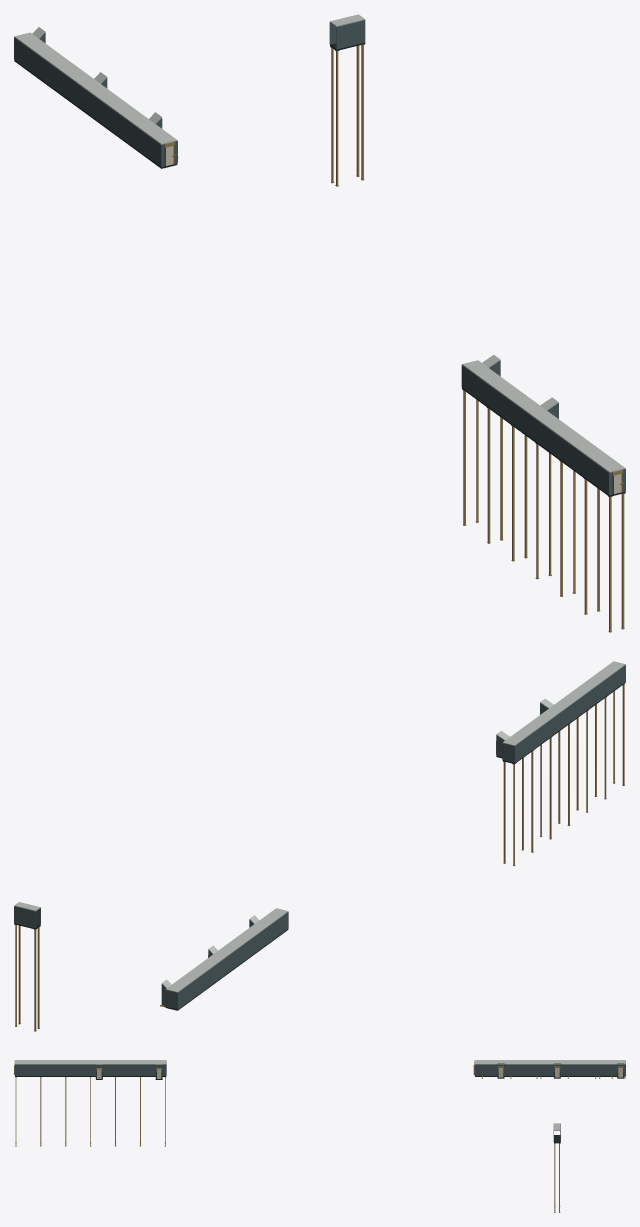
Rendered from D04_STARBOARD_FORWARD_REMAINING_COURTS_r001.glb.
3 views of the same model, one above another, from view 1: azimuth 30°, elevation 25°; view 2: azimuth 150°, elevation 25°; view 3: azimuth 270°, elevation 25° (orthographic). The views are drawn at different scales.
Visible parts, largest first — view 1: SFR_Wall2_3, SFR_Wall0_3, SFR_Roof1, SFR_Roof0; view 2: SFR_Wall0_3, SFR_Wall2_3, SFR_Roof1, SFR_Roof0; view 3: SFR_Wall2_5, SFR_Roof1, SFR_Roof0, SFR_Wall0_13, SFR_Wall2_9, SFR_Wall0_9, SFR_Wall0_5.
Boxes of the visible parts, <box> form: SFR_Wall2_3: <box>461,365,609,495</box>; SFR_Wall0_3: <box>14,37,161,166</box>; SFR_Roof1: <box>462,360,625,472</box>; SFR_Roof0: <box>14,32,177,144</box>; SFR_Wall0_3: <box>177,912,288,1009</box>; SFR_Wall2_3: <box>514,665,625,762</box>; SFR_Roof1: <box>502,661,625,745</box>; SFR_Roof0: <box>165,908,288,992</box>; SFR_Wall2_5: <box>15,1064,95,1075</box>; SFR_Roof1: <box>15,1060,166,1064</box>; SFR_Roof0: <box>475,1060,625,1064</box>; SFR_Wall0_13: <box>561,1064,616,1075</box>; SFR_Wall2_9: <box>103,1064,155,1075</box>; SFR_Wall0_9: <box>504,1064,553,1075</box>; SFR_Wall0_5: <box>475,1064,497,1075</box>.
Size of the model in its own units: 42.06 by 23.78 by 155.
Materials: 7 (7 with a texture image).
